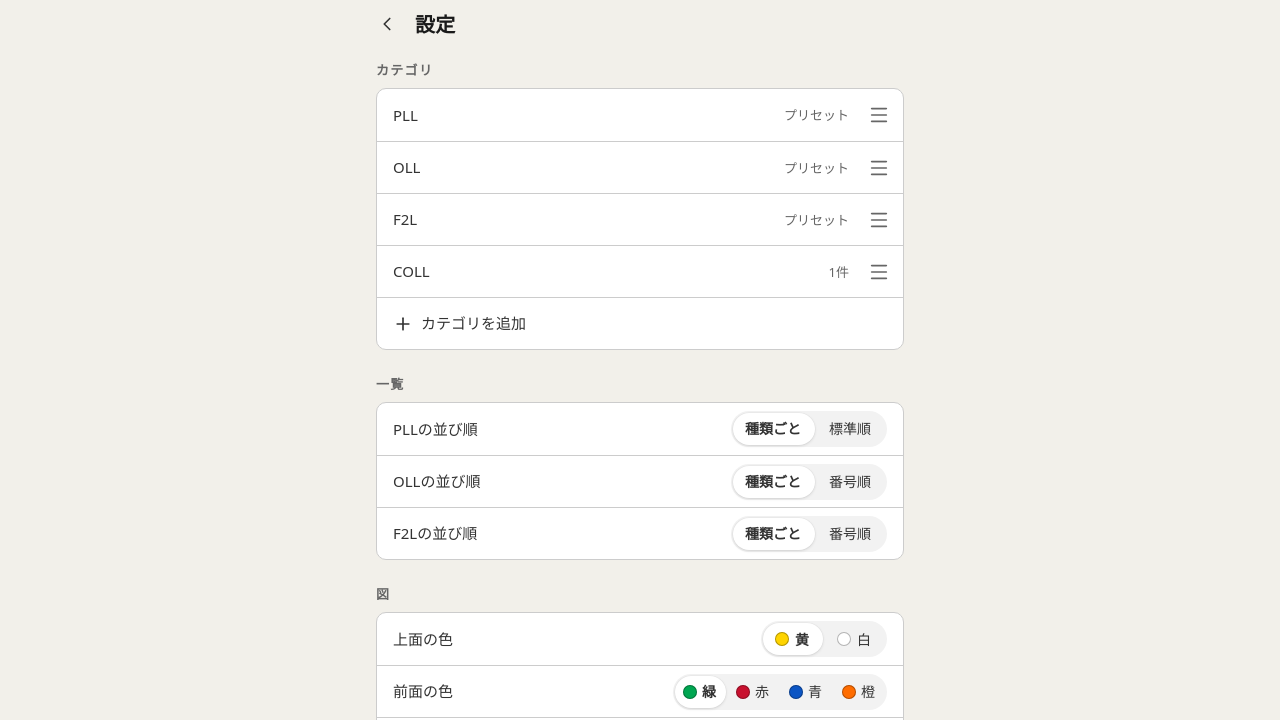
SettingsScreen › カテゴリの削除は件数つきで確認し、中のパターンごと消え、元に戻せる
Click the button "COLL 1件". click: (411, 271)
box: [393,246,849,297]
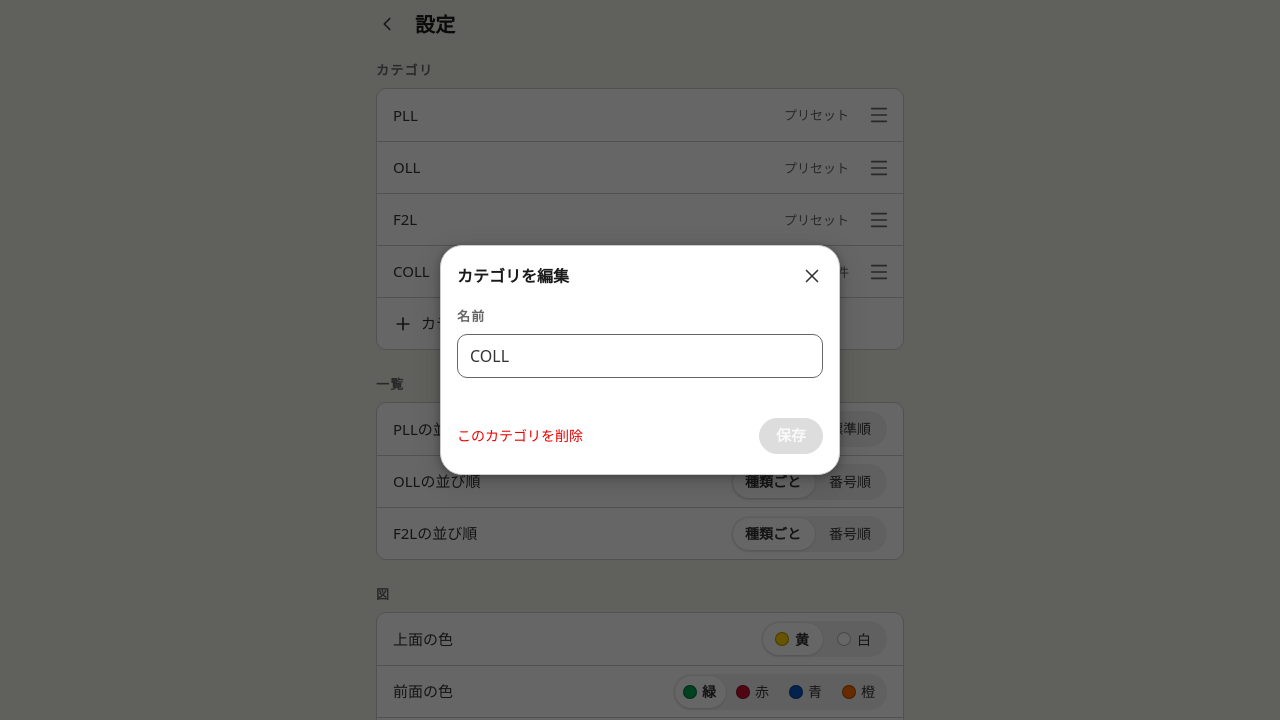
Click the button "このカテゴリを削除". click: (520, 436)
box: [445,418,595,454]
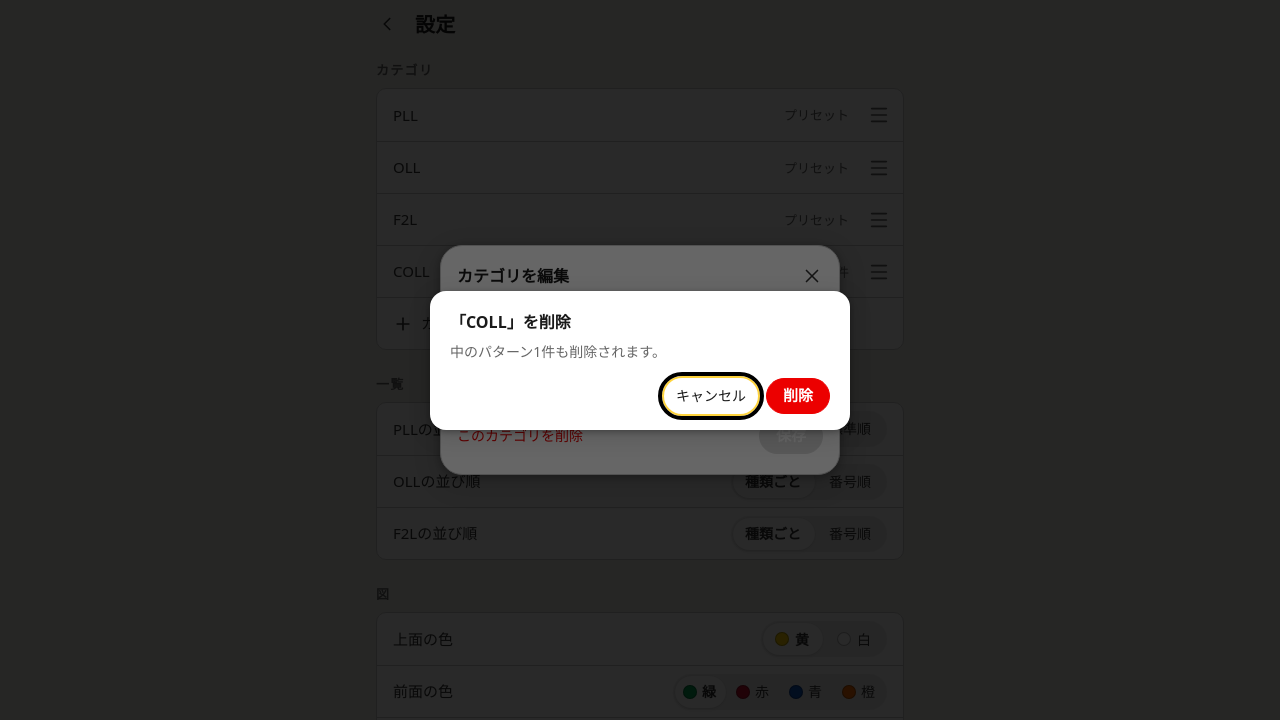
Click the button "削除". click: (798, 396)
box: [766,378,830,414]
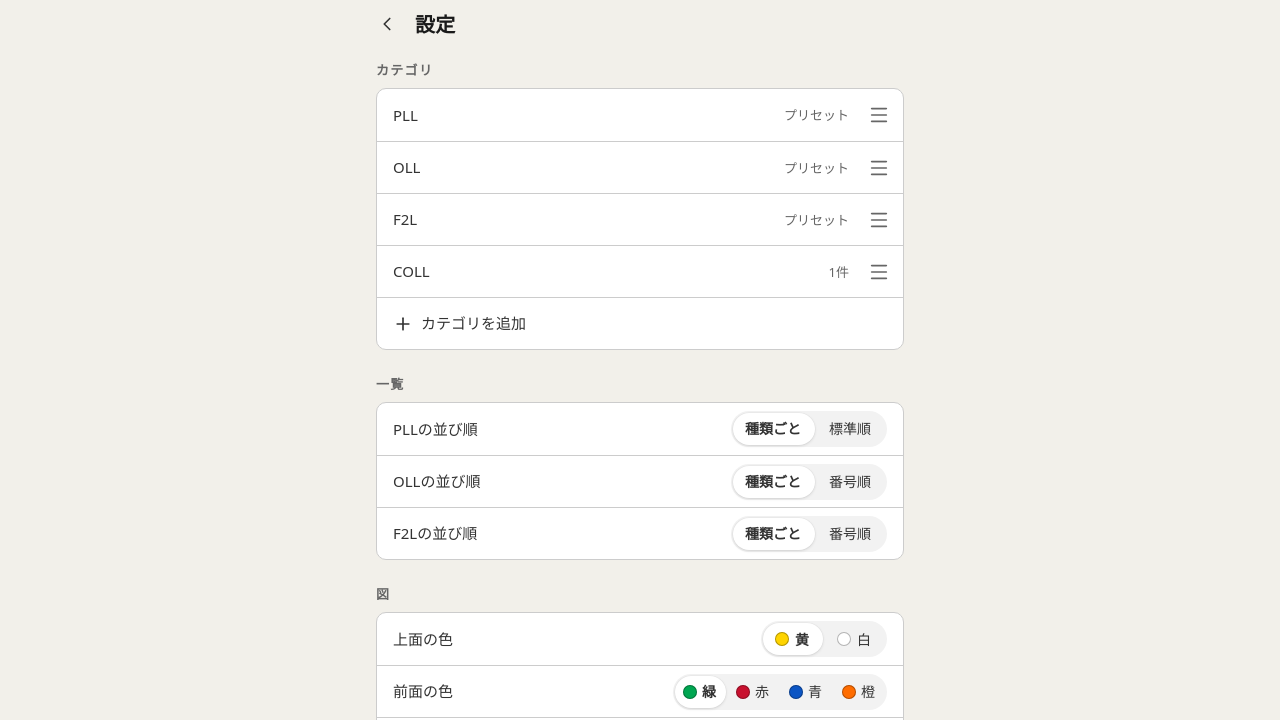
Expected: the dialog is gone
